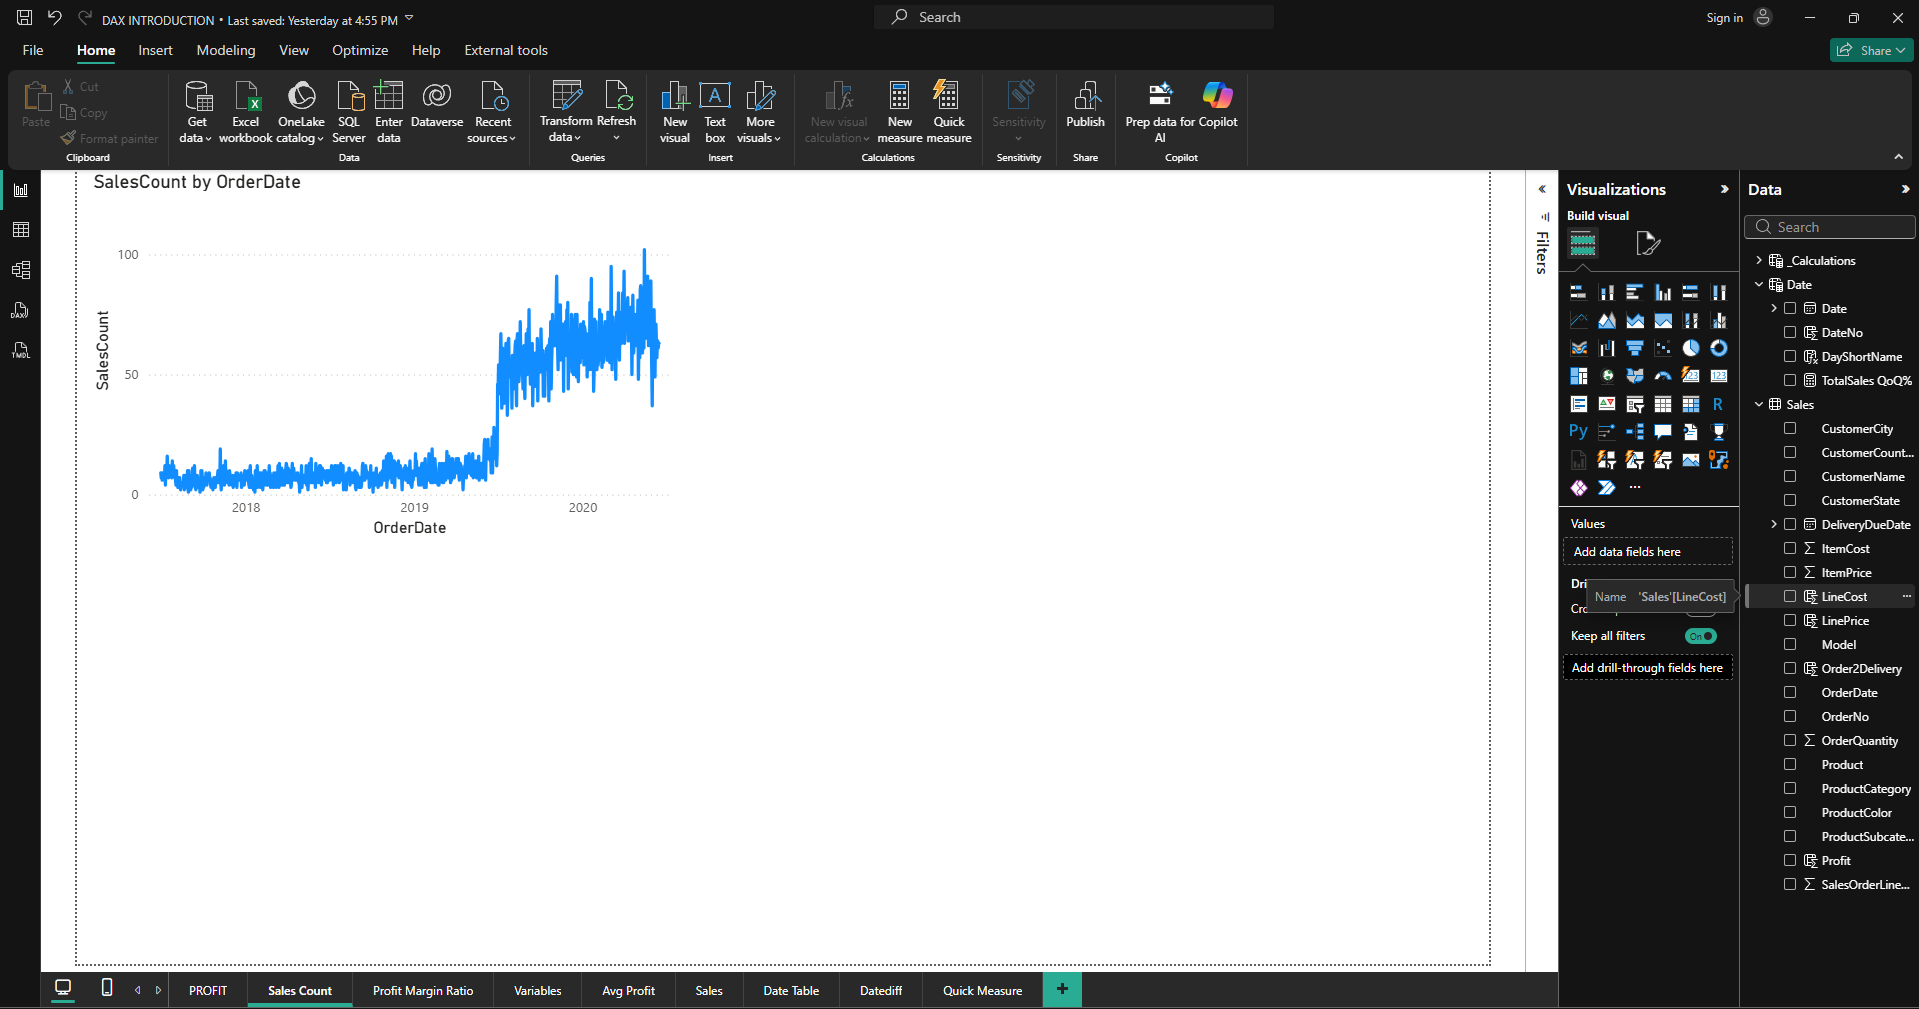

What the dashboard file says about the page in this screenshot:
{"tool":"powerbi","page":{"name":"Sales Count","canvas":[1280,720],"ordinal":1},"visuals":[{"type":"lineChart","fields":{"Y":["_Calculations.SalesCount"],"Category":["Sales.OrderDate.Variation.Date Hierarchy.Year"]},"box":[10,0,535.9,337.3],"z":0}]}

Visuals, with their boxes on the page's 1280x720 design canvas (x1, y1, x2, y2). These are canvas units, not pixel positions in the 1919x1009 screenshot, which may show the page scaled, cropped or inside an application window:
lineChart - _Calculations.SalesCount x Sales.OrderDate.Variation.Date Hierarchy.Year: x1=10 y1=0 x2=546 y2=337
